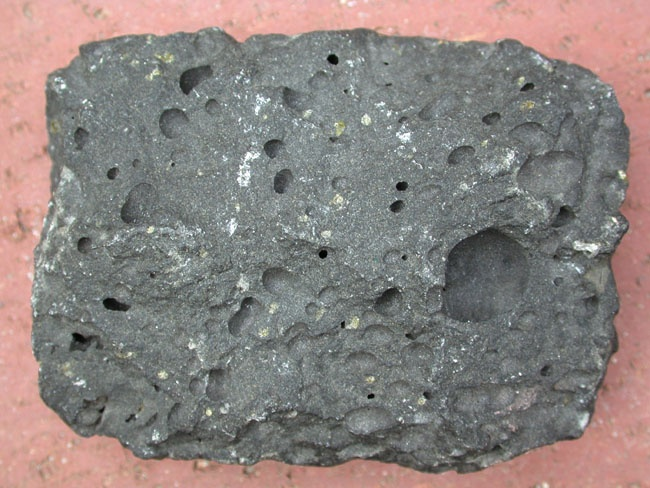obstacle: (33, 29, 627, 471)
